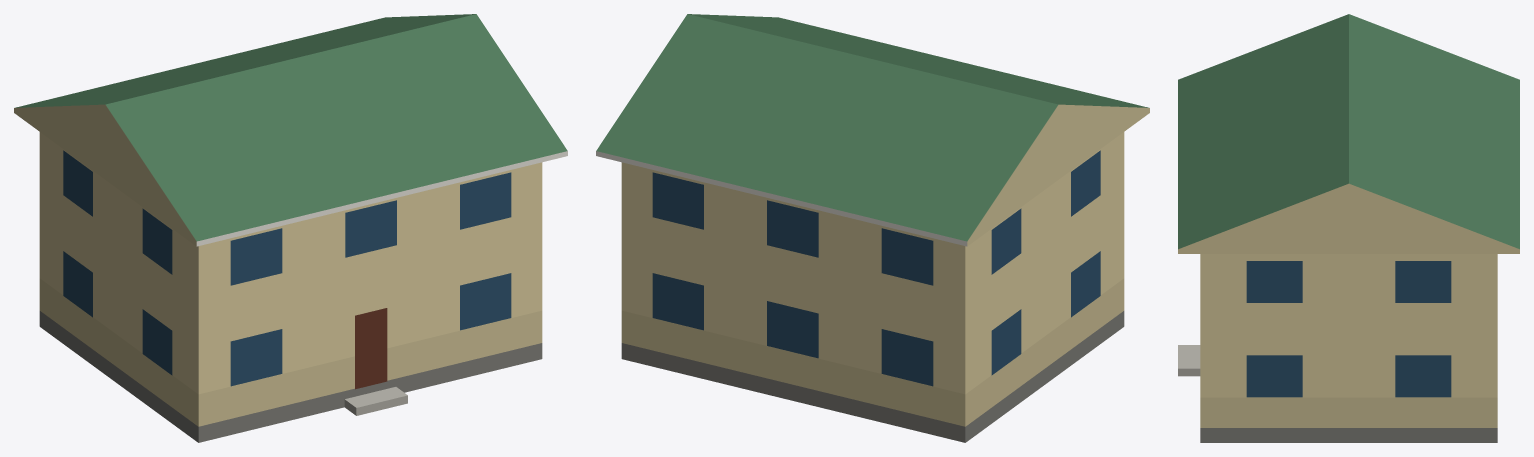
File: house_10x8_2f_lod1.glb
The picture shows the model from 3 angles, left to right: view 1: azimuth 30°, elevation 25°; view 2: azimuth 150°, elevation 25°; view 3: azimuth 270°, elevation 25°; orthographic projection. The views are drawn at different scales.
Parts seen in each view (by area): view 1: house; view 2: house; view 3: house.
Part boxes in pixels (left/top/right/bottom): house: left=14, top=14, right=567, bottom=442; house: left=596, top=14, right=1149, bottom=442; house: left=1178, top=14, right=1519, bottom=442.
Size of the model in its own units: 10.8 by 7.89 by 9.2.
